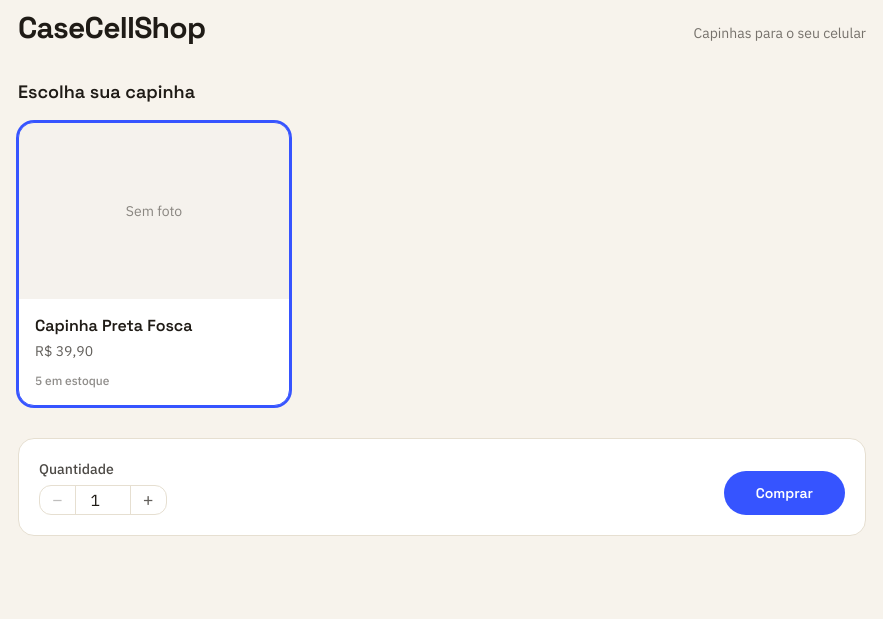
Test: App - checkout flow › shows the validation message when the quantity is invalid
The image size is (883, 619).
Expected: the text "Capinha Preta Fosca" is shown, [35,315,192,336]
What coordinates should you click on to do the following:
click the button "Comprar"
I would click on:
 (784, 493)
Its box is [724,471,845,515].
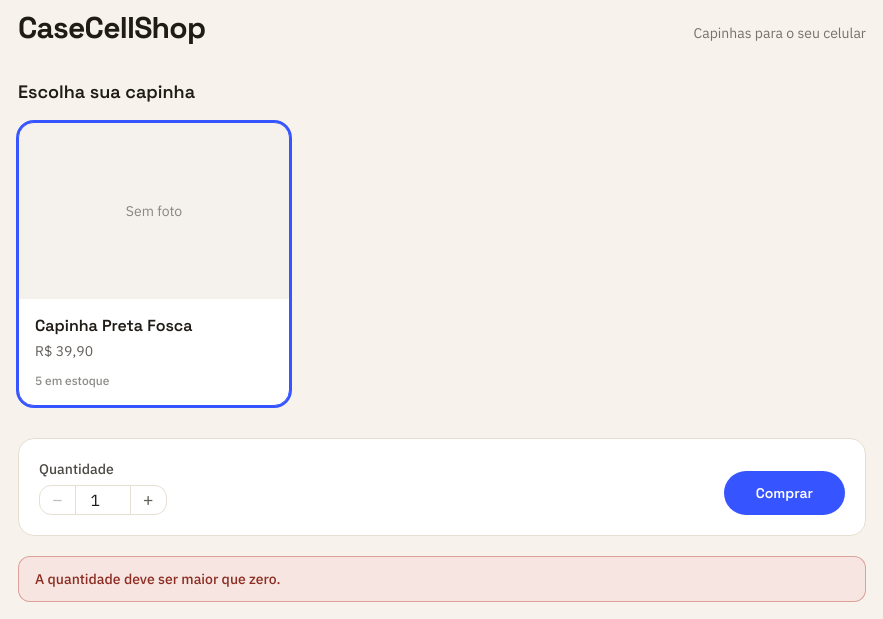
Expected: the message shows "quantidade deve ser maior que zero", [35,570,280,588]
